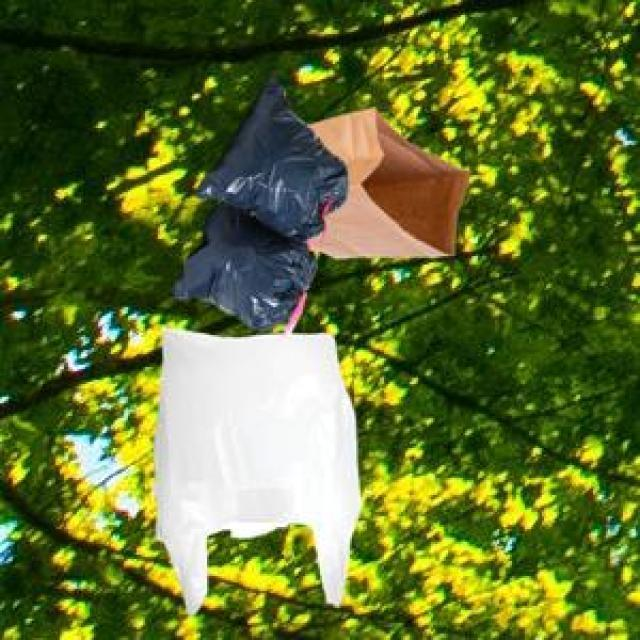miscellaneous trash: (166, 70, 344, 333)
paper: (301, 105, 465, 254)
